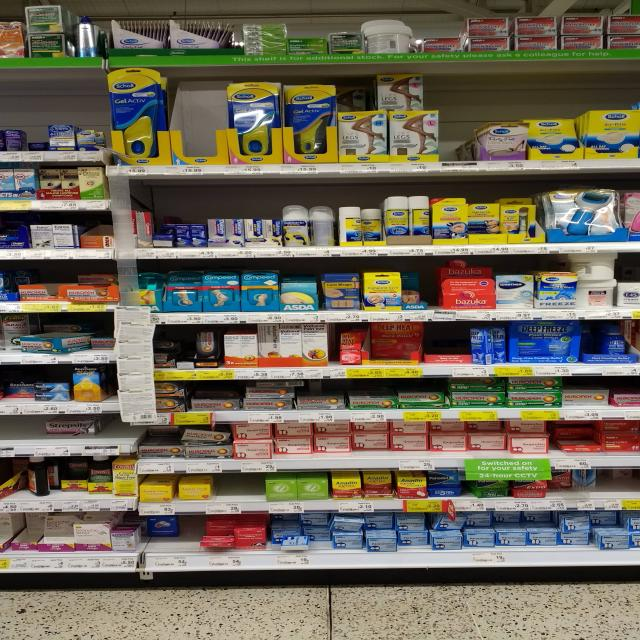void: (170, 69, 227, 162), (442, 68, 480, 162), (428, 322, 468, 363), (218, 472, 263, 500), (597, 470, 640, 497), (0, 415, 37, 439)
